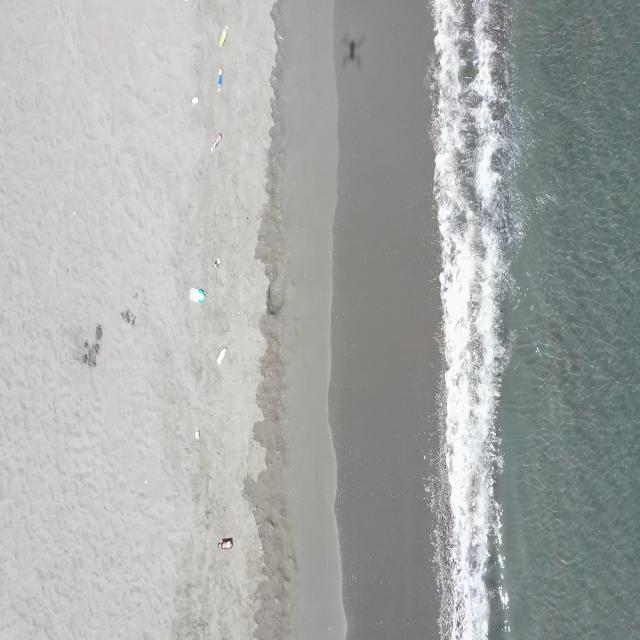plastic-bottle: (188, 286, 206, 304), (216, 346, 228, 366), (210, 133, 223, 151), (219, 536, 234, 550), (219, 27, 228, 48), (217, 67, 224, 92), (213, 256, 222, 270), (194, 425, 201, 442), (191, 96, 200, 106)
